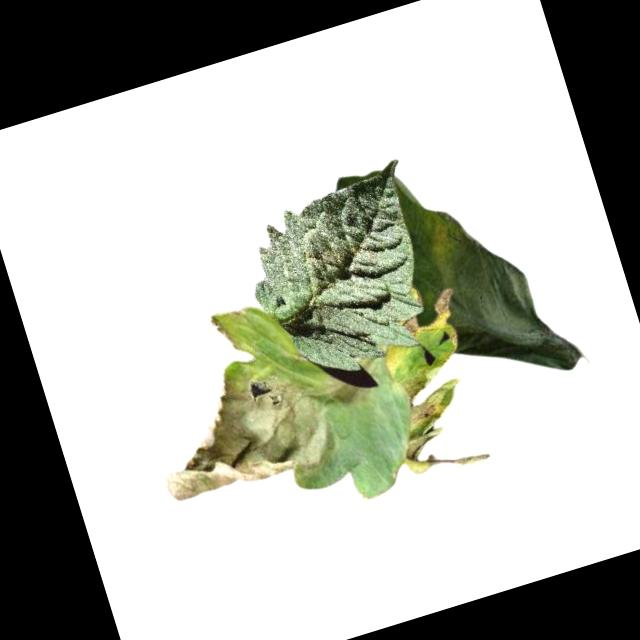Late_blight: (373, 135, 586, 410), (144, 350, 339, 512), (385, 356, 490, 486), (209, 303, 258, 358), (429, 286, 470, 351), (323, 366, 378, 414), (402, 316, 424, 341)
healthy: (228, 157, 456, 392)
